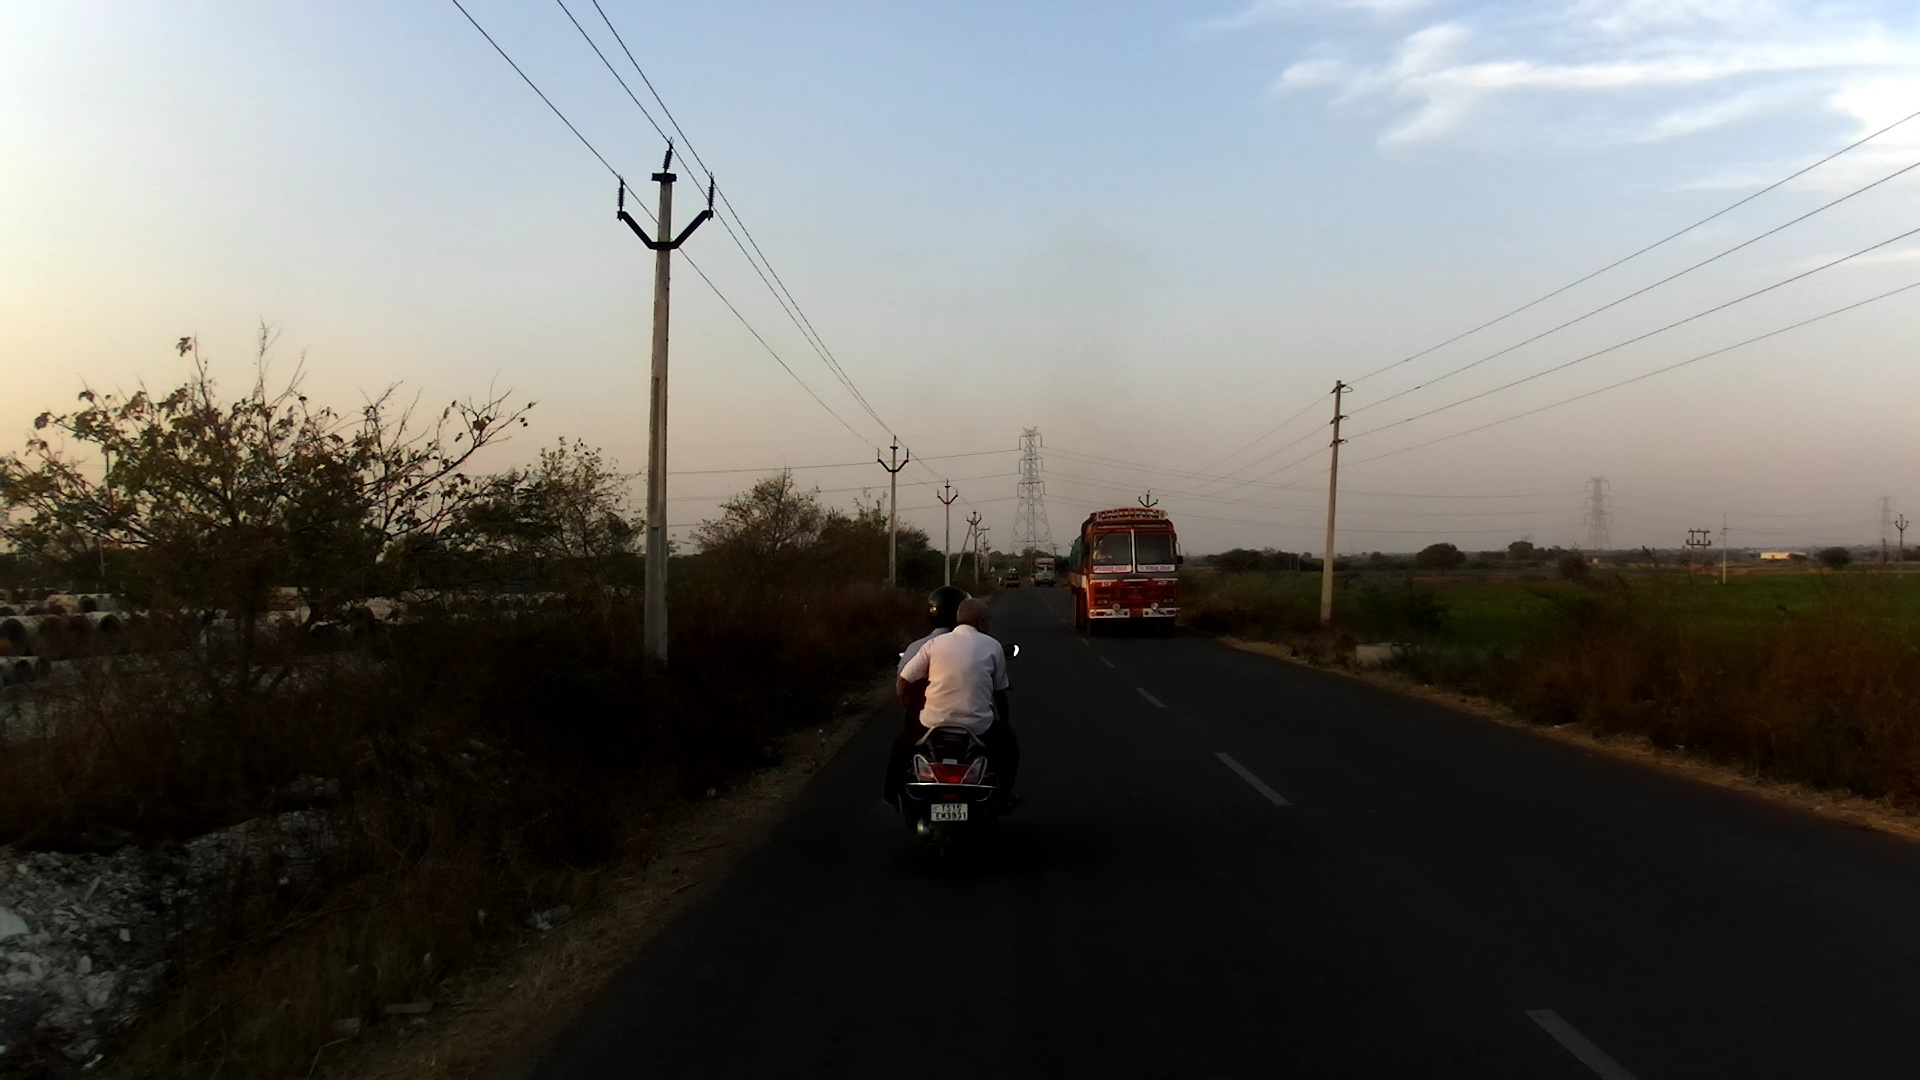autorickshaw: (1003, 567, 1022, 590)
car: (1030, 572, 1036, 585)
motorcycle: (897, 638, 1022, 856)
rider: (886, 596, 1027, 808), (894, 585, 992, 748)
truck: (1067, 506, 1185, 642), (1032, 557, 1057, 587)
